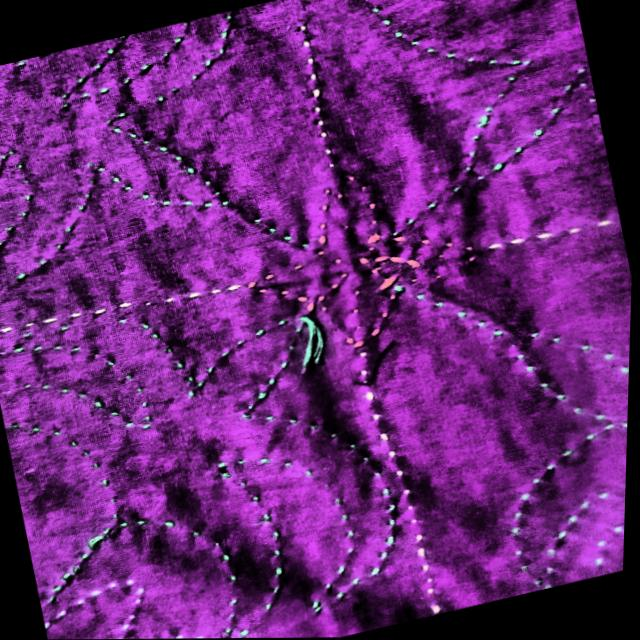Stitch: (265, 291, 354, 390)
